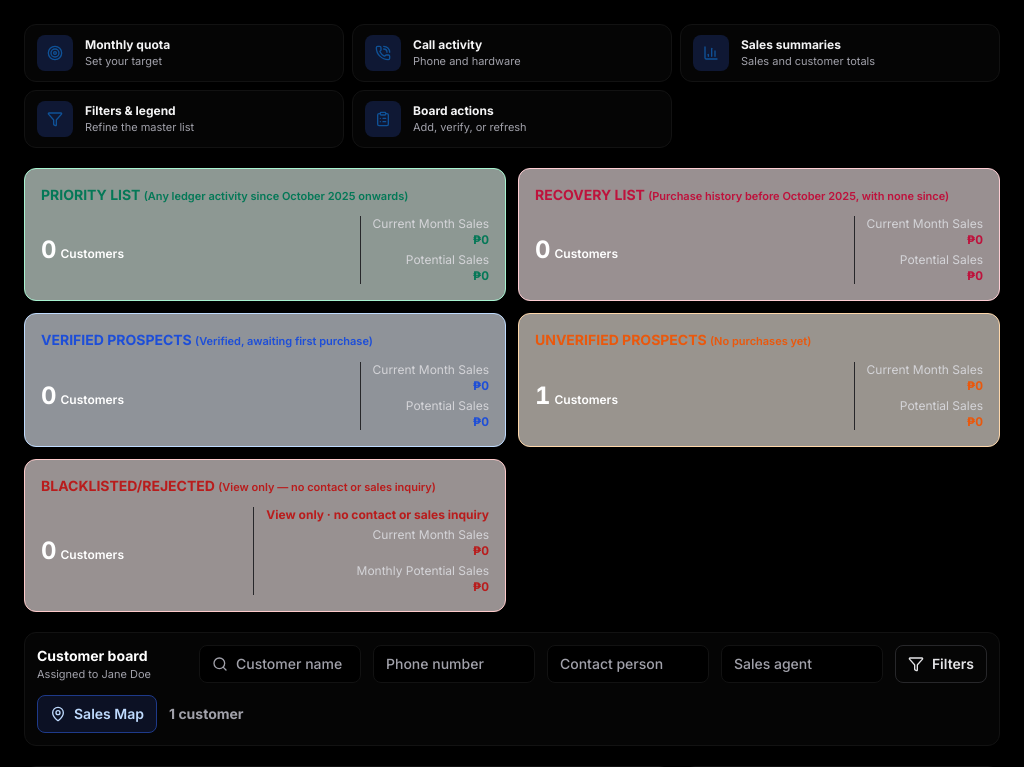
it: DailyCallMonitoringView communication actions › keeps customer lists primary and reveals sales summaries on demand
Expected: the element named "Daily call customer category summary cards" is shown, top-left (24, 168), bottom-right (1000, 612)
Click the button "Sales summaries Sales and customer totals" at {"x": 840, "y": 53}, box top-left (680, 24), bottom-right (1000, 82)
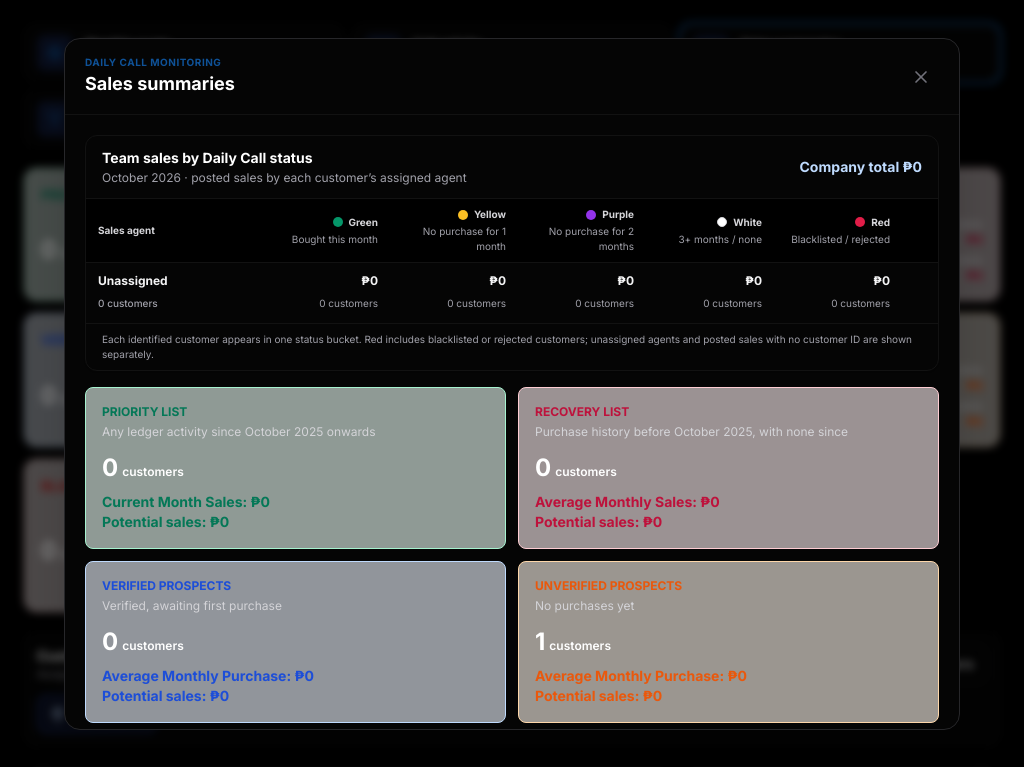
Expected: the dialog "Sales summaries" is shown
Expected: the element named "Customer category summaries" is shown, top-left (85, 387), bottom-right (939, 729)
Expected: the heading "Team sales by Daily Call status" is shown, top-left (102, 149), bottom-right (312, 166)
